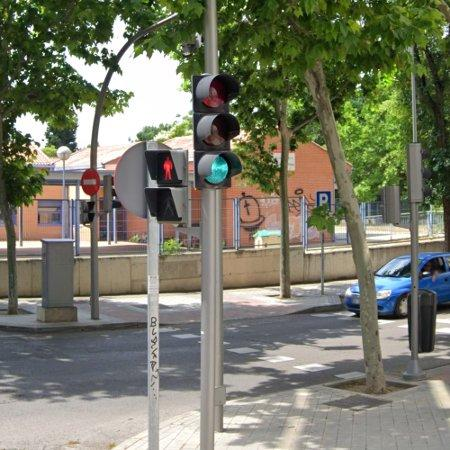traffic lights: (193, 74, 242, 188)
